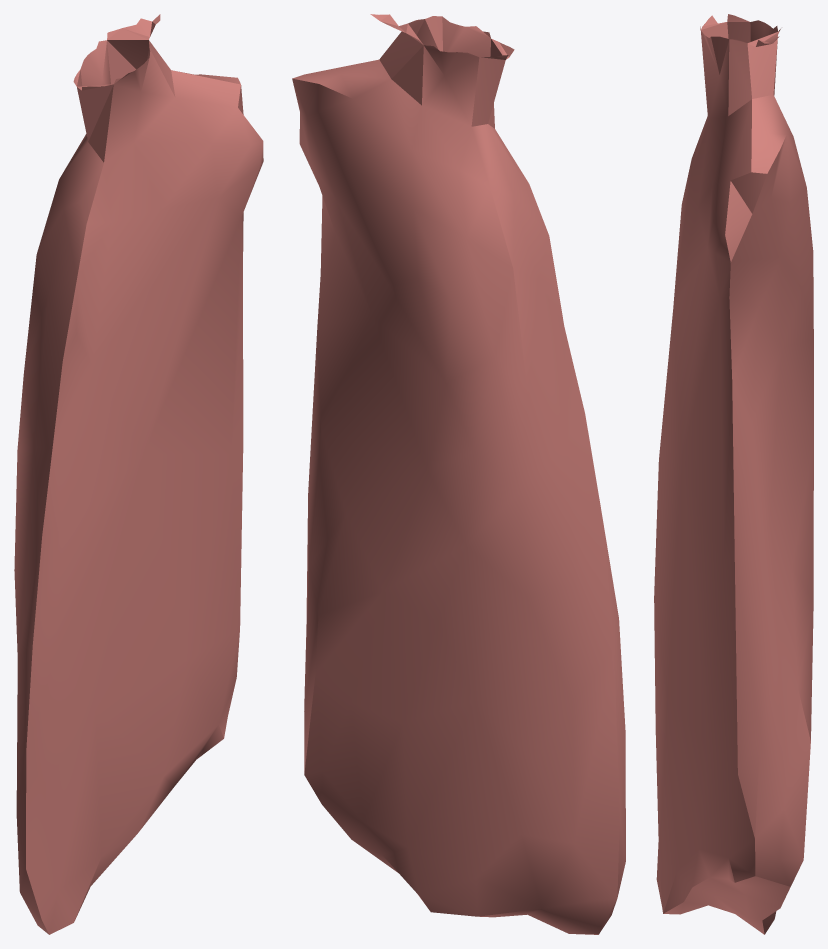
Rendered from fma81557_mm1328m.glb.
3 views of the same model, side by side, from view 1: azimuth 30°, elevation 25°; view 2: azimuth 150°, elevation 25°; view 3: azimuth 270°, elevation 25° (orthographic). The views are drawn at different scales.
Visible parts, largest first — view 1: FMA81557_MM1328M; view 2: FMA81557_MM1328M; view 3: FMA81557_MM1328M.
Boxes of the visible parts, left/top/right/bottom form: FMA81557_MM1328M: left=14, top=14, right=263, bottom=934; FMA81557_MM1328M: left=292, top=14, right=625, bottom=934; FMA81557_MM1328M: left=654, top=14, right=813, bottom=934.
Size of the model in its own units: 0.00511 by 0.0152 by 0.00232.
